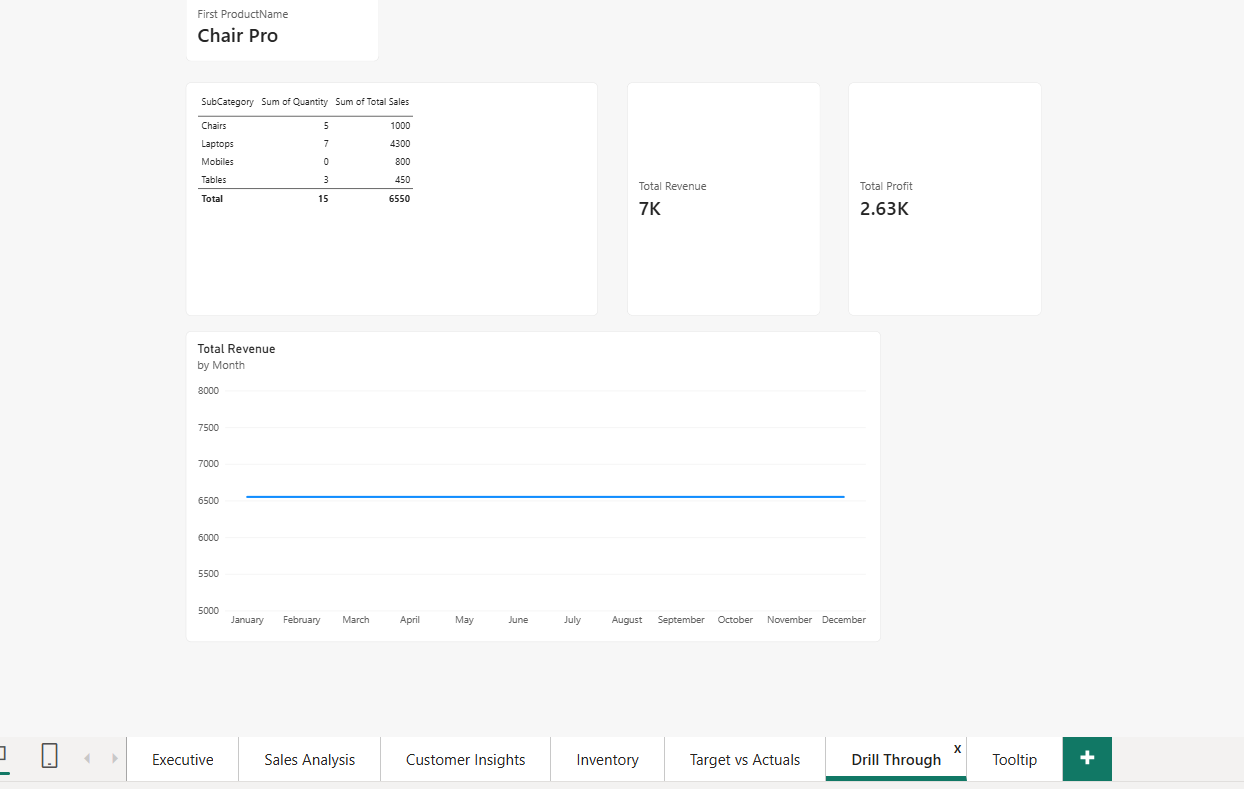

What the dashboard file says about the page in this screenshot:
{"tool":"powerbi","page":{"name":"Drill Through","canvas":[1920,1080],"ordinal":5},"visuals":[{"type":"tableEx","fields":{"Values":["Products.SubCategory","Sum(Sales_Transactions.Quantity)","Sum(Sales_Transactions.Total Sales)"]},"box":[280.5,132.1,597.2,338.4],"z":0},{"type":"cardVisual","fields":{"Data":["Min(Products.ProductName)"]},"box":[280.5,0,280,102],"z":1000},{"type":"cardVisual","fields":{"Data":["Customers.Total Revenue"]},"box":[919.3,132.1,280.5,338.4],"z":1001},{"type":"cardVisual","fields":{"Data":["Customers.Total Profit"]},"box":[1239.6,132.1,280.5,338.4],"z":1002},{"type":"lineChart","fields":{"Category":["Targets.Month.Variation.Date Hierarchy.Month"],"Y":["Customers.Total Revenue"]},"box":[280.5,492.2,1006,450],"z":1003}]}

Visuals, with their boxes on the page's 1920x1080 design canvas (x1, y1, x2, y2). These are canvas units, not pixel positions in the 1244x789 screenshot, which may show the page scaled, cropped or inside an application window:
tableEx - Products.SubCategory x Sum(Sales_Transactions.Quantity): {"left": 280, "top": 132, "right": 878, "bottom": 470}
cardVisual - Min(Products.ProductName): {"left": 280, "top": 0, "right": 560, "bottom": 102}
cardVisual - Customers.Total Revenue: {"left": 919, "top": 132, "right": 1200, "bottom": 470}
cardVisual - Customers.Total Profit: {"left": 1240, "top": 132, "right": 1520, "bottom": 470}
lineChart - Targets.Month.Variation.Date Hierarchy.Month x Customers.Total Revenue: {"left": 280, "top": 492, "right": 1286, "bottom": 942}
